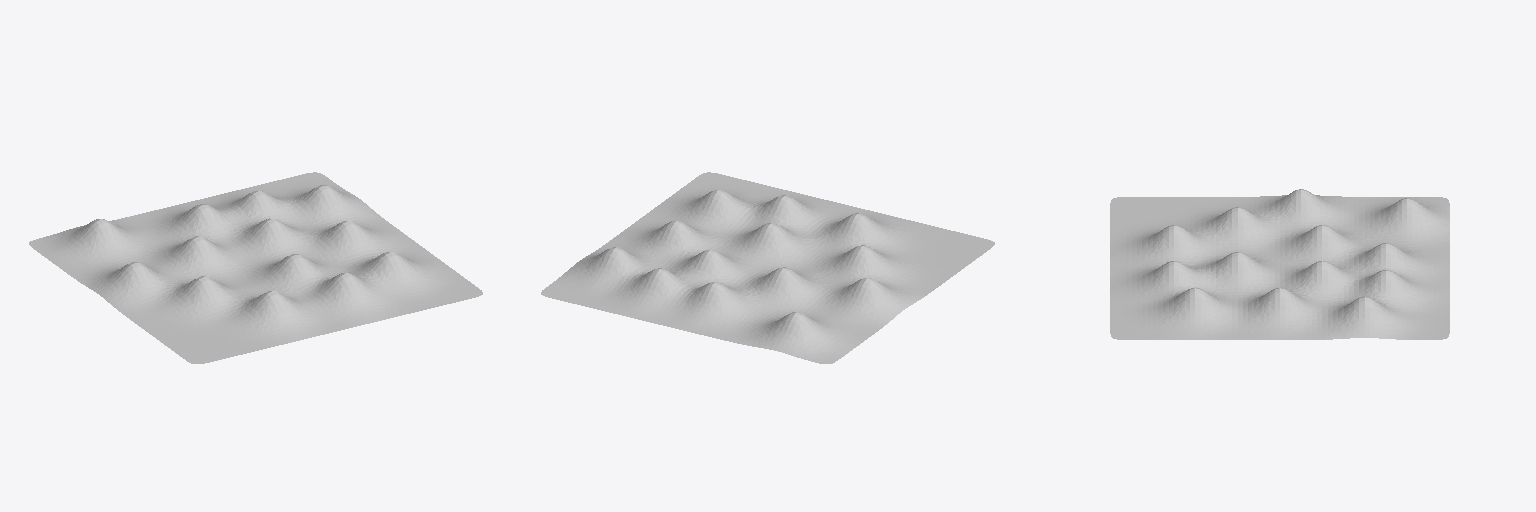
File: world.obj
3 renders of one model, left to right at view 1: azimuth 30°, elevation 25°; view 2: azimuth 150°, elevation 25°; view 3: azimuth 270°, elevation 25°, orthographic.
Visible parts, largest first — view 1: Plane_Plane.001; view 2: Plane_Plane.001; view 3: Plane_Plane.001.
Part boxes in pixels (bbox=[...]): Plane_Plane.001: bbox=[29, 172, 482, 363]; Plane_Plane.001: bbox=[541, 172, 994, 363]; Plane_Plane.001: bbox=[1110, 189, 1449, 339].
Size of the model in its own units: 6.31 by 0.5122 by 6.31.